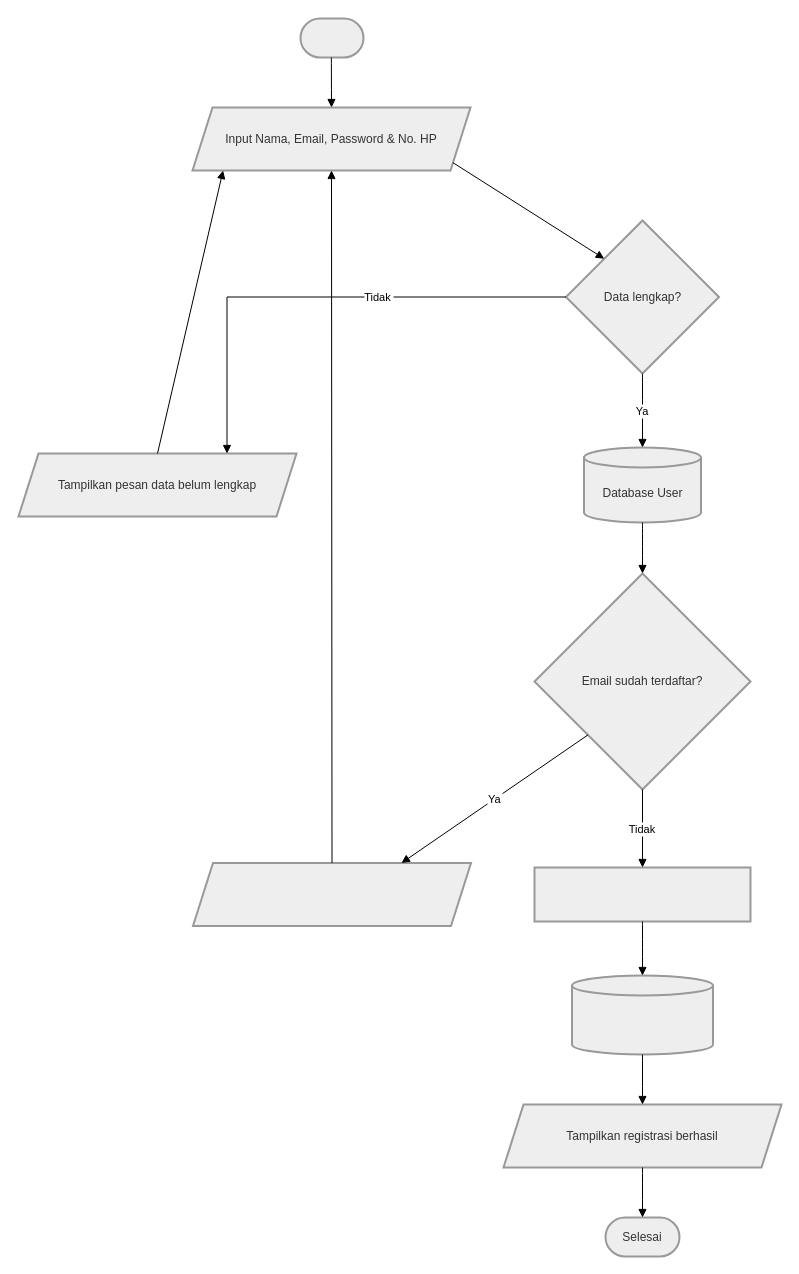
This 799x1274 diagram has some shape labels left out. The centre of each missing label's shape, as x and y in pixels:
Mulai: the point at 331,37
Proses membuat akun: the point at 642,894
Simpan Data User: the point at 642,1014
Tampilkan pesan email sudah digunakan: the point at 332,894
